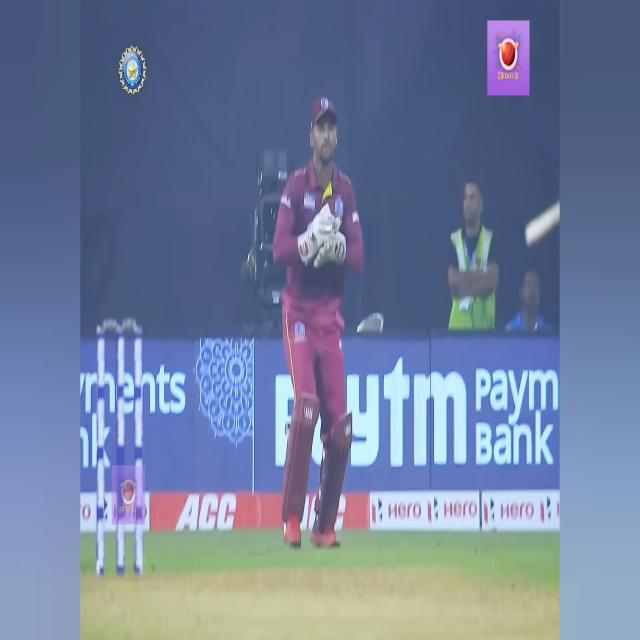partially_visible: (274, 359, 471, 481)
